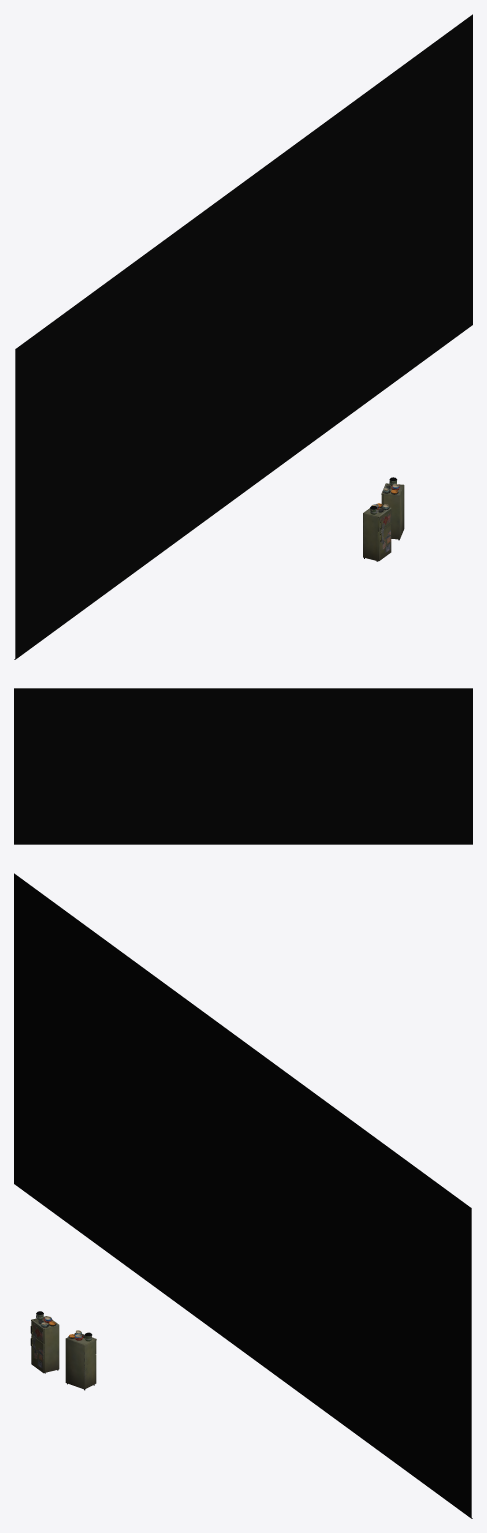
Rendered from LimeExp_2.FBX.
The picture shows the model from 3 angles, top to bottom: view 1: azimuth 30°, elevation 25°; view 2: azimuth 150°, elevation 25°; view 3: azimuth 270°, elevation 25°; orthographic projection. The views are drawn at different scales.
Visible parts, largest first — view 1: yinglibiaoxian0041, yinglibiaoxian0067, yinglibiaoxian0086; view 2: yinglibiaoxian0041; view 3: yinglibiaoxian0041, yinglibiaoxian0086, yinglibiaoxian0067.
Part boxes in pixels (x1,y1,x2,y2): yinglibiaoxian0041: (14, 14, 472, 659); yinglibiaoxian0067: (363, 507, 391, 561); yinglibiaoxian0086: (381, 483, 404, 540); yinglibiaoxian0041: (14, 688, 472, 844); yinglibiaoxian0041: (14, 873, 472, 1518); yinglibiaoxian0086: (65, 1334, 96, 1390); yinglibiaoxian0067: (30, 1316, 59, 1373).
Bounding box in the file's own units: 1387 × 600 × 803.
Materials: 19 (19 with a texture image).
